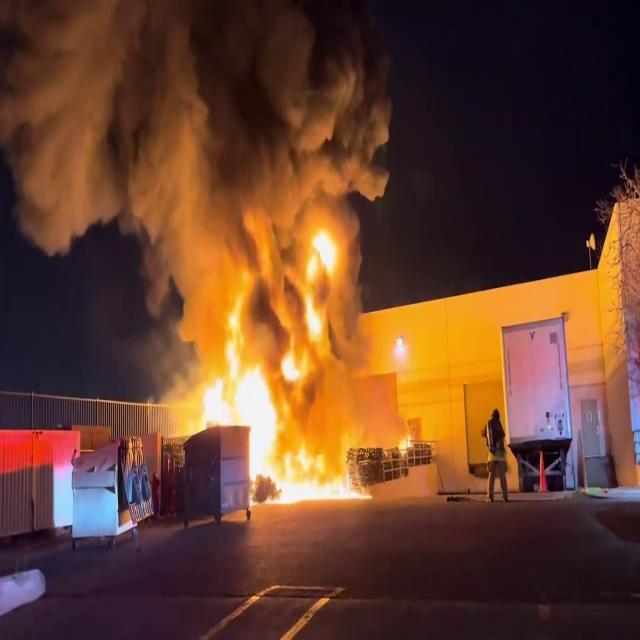Fire: (161, 208, 377, 502)
Smoke: (1, 0, 406, 275)
